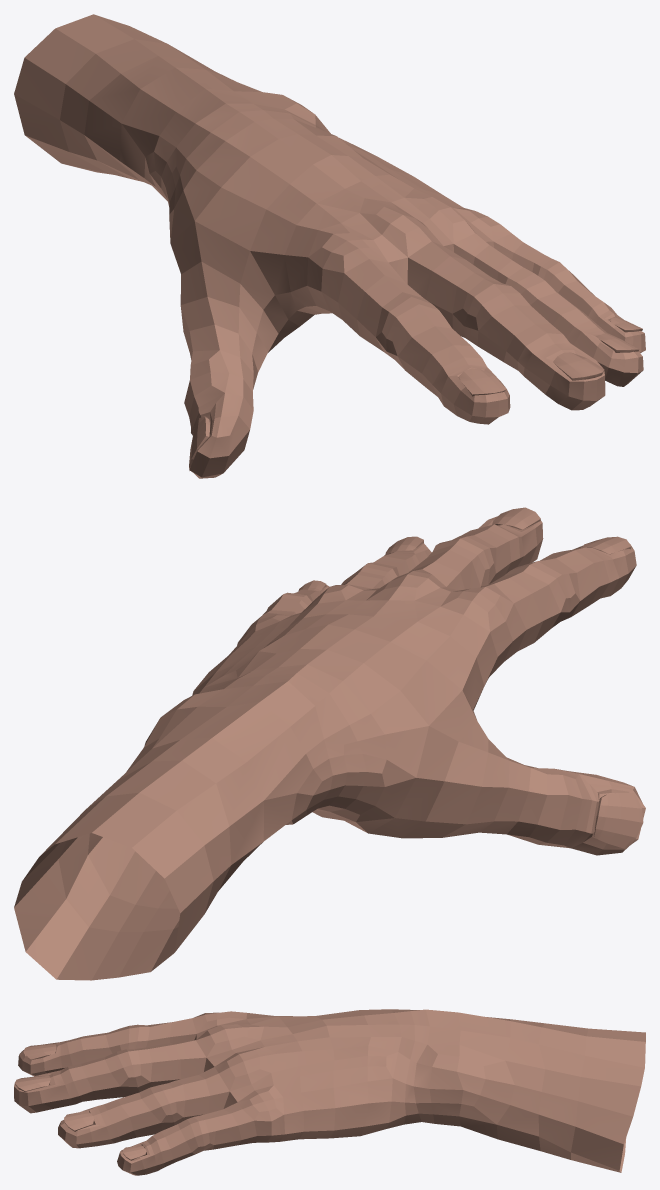
The model's file is 4_6_HandPolygonalLeftBack.glb.
The picture shows the model from 3 angles, top to bottom: view 1: azimuth 30°, elevation 25°; view 2: azimuth 150°, elevation 25°; view 3: azimuth 270°, elevation 25°; orthographic projection. The views are drawn at different scales.
Visible parts, largest first — view 1: hand1_polySurface891.004; view 2: hand1_polySurface891.004; view 3: hand1_polySurface891.004.
Part boxes in pixels (x1,y1,x2,y2): hand1_polySurface891.004: (14,14,645,478); hand1_polySurface891.004: (14,507,645,980); hand1_polySurface891.004: (14,1009,645,1175).
Bounding box in the file's own units: 0.0875 × 0.0487 × 0.1779.
